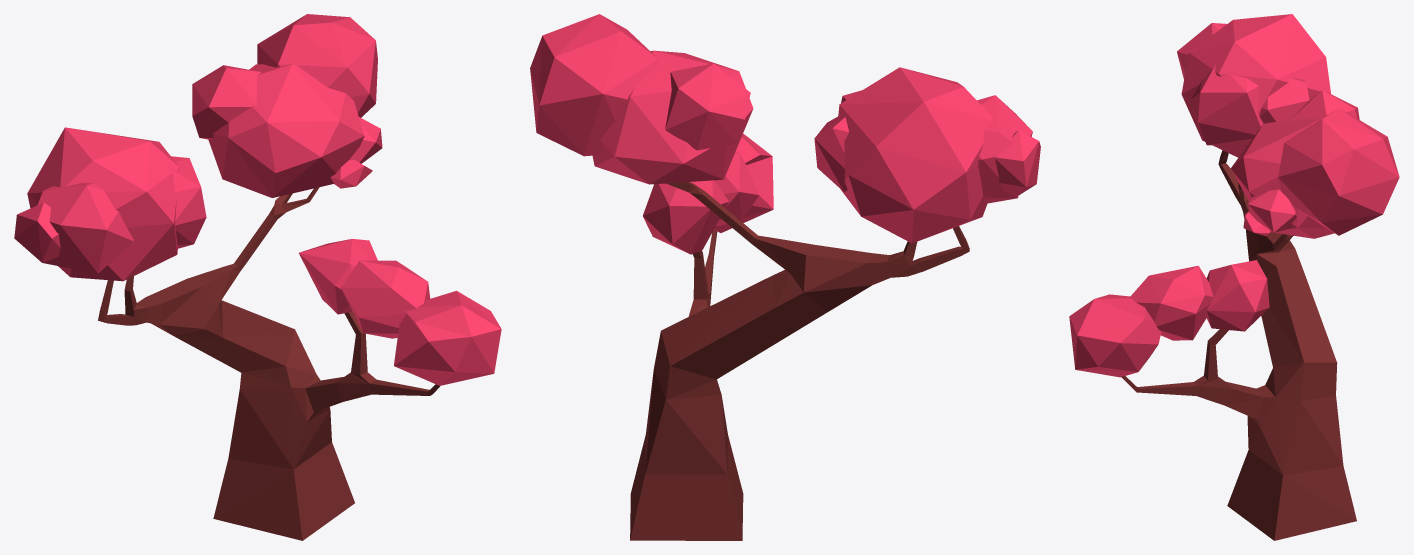
The model's file is Sakura tree.fbx.
3 views of the same model, side by side, from view 1: azimuth 30°, elevation 25°; view 2: azimuth 150°, elevation 25°; view 3: azimuth 270°, elevation 25° (orthographic). The views are drawn at different scales.
Parts seen in each view (by area): view 1: Low Poly Japan Tree 2; view 2: Low Poly Japan Tree 2; view 3: Low Poly Japan Tree 2.
Boxes of the visible parts, x1=… form: Low Poly Japan Tree 2: x1=14, y1=14, x2=501, y2=540; Low Poly Japan Tree 2: x1=530, y1=14, x2=1040, y2=540; Low Poly Japan Tree 2: x1=1069, y1=14, x2=1399, y2=540.
Size of the model in its own units: 1020 by 1093 by 773.
